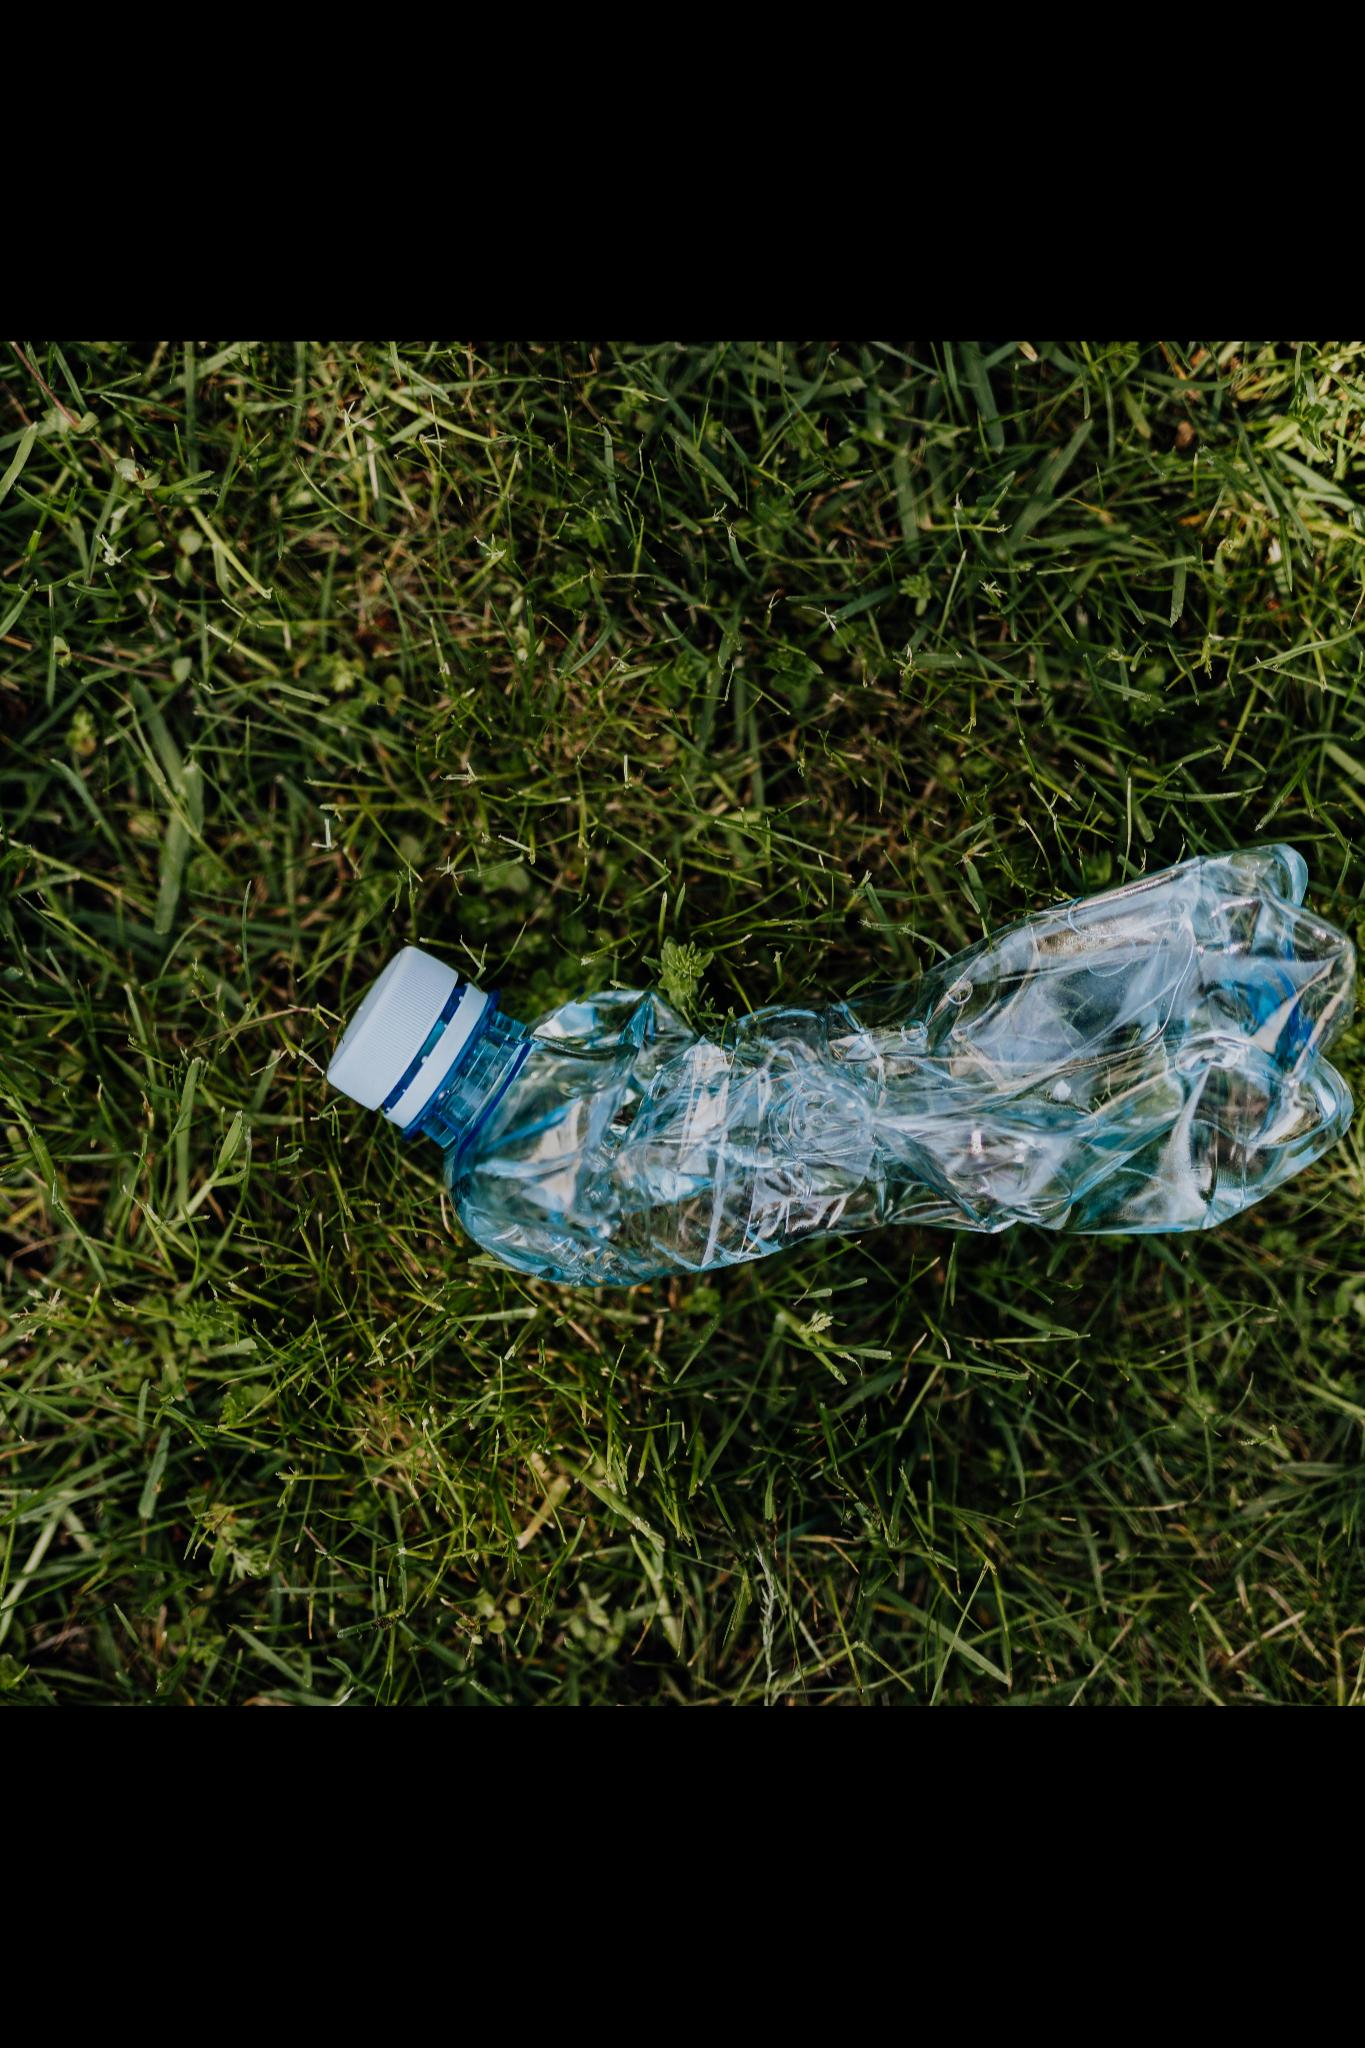bottle: (304, 801, 1365, 1321)
